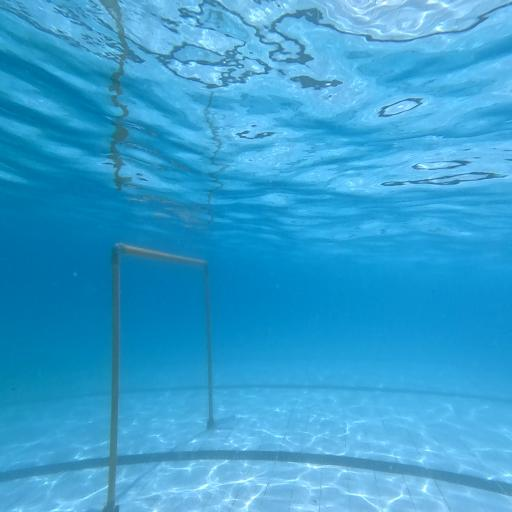gate: (106, 241, 222, 512)
